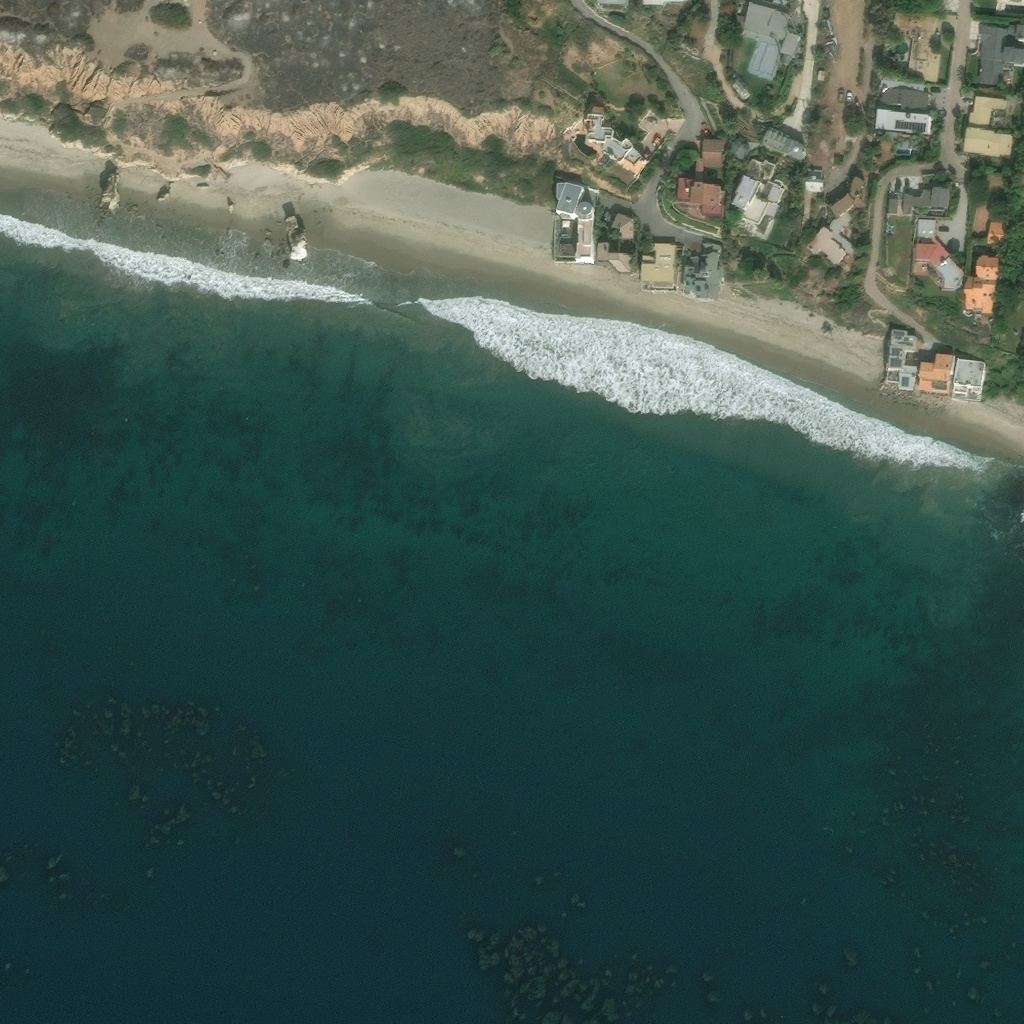0 no-damage: (732, 0, 802, 81), (673, 139, 725, 219), (892, 3, 941, 82), (554, 181, 600, 263), (913, 219, 963, 292), (729, 174, 785, 236), (874, 87, 931, 144), (974, 23, 1023, 86), (583, 113, 642, 165), (682, 242, 723, 300), (962, 255, 1000, 317), (639, 242, 680, 293), (884, 329, 917, 391), (961, 125, 1013, 160), (760, 126, 808, 163), (805, 225, 846, 266), (828, 175, 865, 220), (915, 353, 954, 394), (950, 359, 985, 402), (901, 187, 950, 216), (966, 96, 1007, 127), (597, 242, 632, 275), (612, 212, 634, 239), (985, 220, 1007, 246), (803, 168, 823, 191), (731, 139, 751, 161), (730, 80, 750, 101), (887, 197, 897, 213), (650, 136, 662, 148)
4 un-classified: (640, 0, 684, 6), (595, 0, 627, 7)
